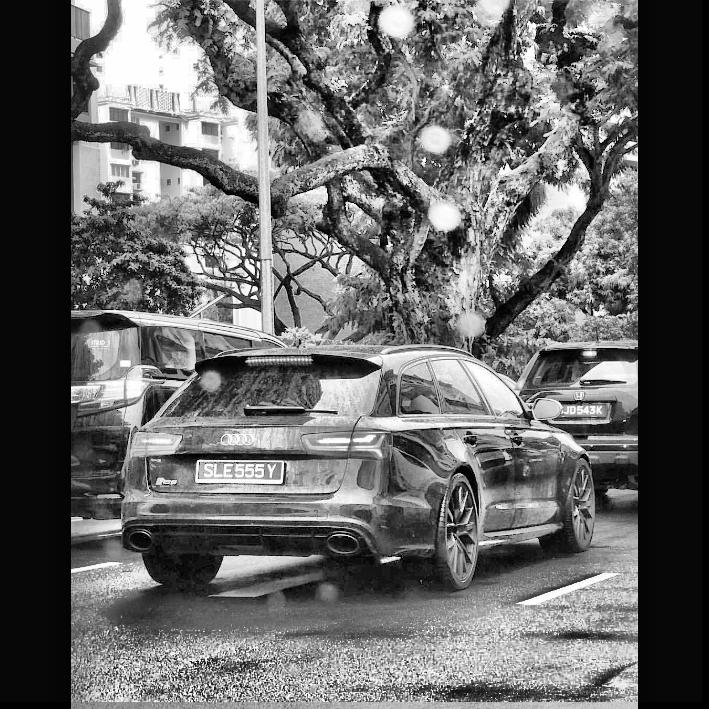License-Plates: (197, 462, 281, 480), (560, 405, 604, 415)
